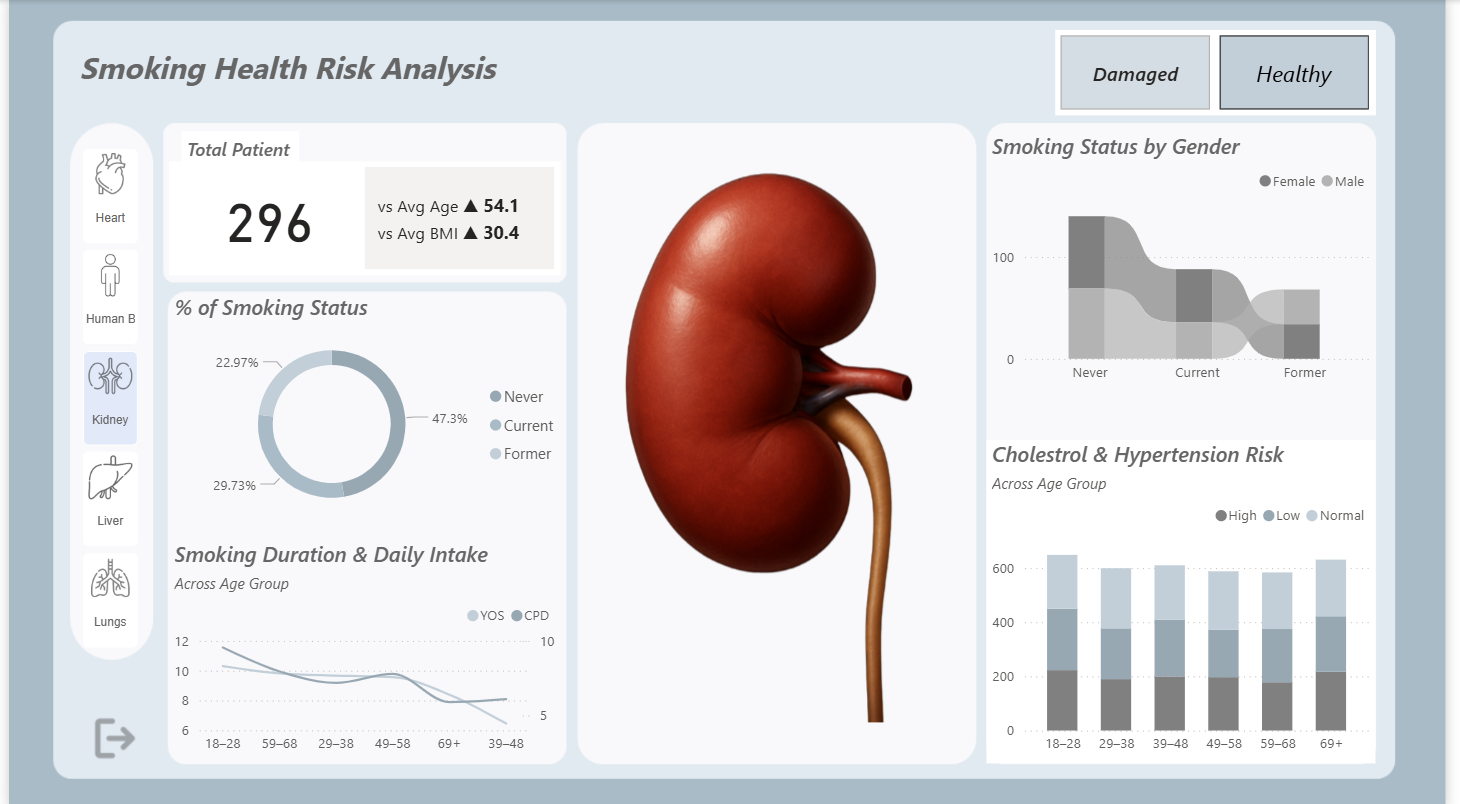

The page's visual inventory and layout, read from the dashboard file:
{"tool":"powerbi","page":{"name":"Page 1","canvas":[1280,720],"ordinal":0},"visuals":[{"type":"cardVisual","fields":{"Data":["CountNonNull(health_dataset.Patient_ID)"]},"box":[142.4,143.6,348.7,101.3],"z":0},{"type":"textbox","box":[153.2,117,105,37.4],"z":1000},{"type":"advancedSlicerVisual","fields":{"Values":["condition.Organ_Condition"]},"box":[931.4,26.5,285.9,76],"z":2000},{"type":"ChicletSlicer1448559807354","fields":{"Category":["Organs.Organ"],"Image":["Organs.Icon_URL"]},"box":[57.9,124.3,72.4,469.3],"z":3000},{"type":"simpleImageEBC4593F96F1425FB3D84C5BF02B5075","fields":{"imageURL":["Image Dataset.Image URL"]},"box":[520,102.5,330.6,577.9],"z":4000},{"type":"donutChart","title":"% of Smoking Status","fields":{"Category":["health_dataset.Smoking_Status"],"Y":["CountNonNull(health_dataset.Smoking_Status)"]},"box":[142.4,260.6,357.1,209.9],"z":5000},{"type":"lineChart","title":"Smoking Duration & Daily Intake","fields":{"Category":["health_dataset.Age Group"],"Y":["Avg(health_dataset.Years_of_Smoking)"],"Y2":["Avg(health_dataset.Cigarettes_Per_Day)"]},"box":[142.4,481.4,348.7,199.1],"z":6000},{"type":"ribbonChart","title":"Smoking Status by Gender","fields":{"Category":["health_dataset.Smoking_Status"],"Y":["CountNonNull(health_dataset.Patient_ID)"],"Series":["health_dataset.Gender"]},"box":[871.1,117,346.2,232.8],"z":7000},{"type":"columnChart","title":"Cholestrol & Hypertension Risk","fields":{"Category":["health_dataset.Age Group"],"Y":["Avg(health_dataset.Cholesterol_Level)"],"Series":["health_dataset.BP_Risk"]},"box":[871.1,392.1,346.2,288.3],"z":8000},{"type":"textbox","box":[57.9,36.2,382.4,53.1],"z":9000}]}

Visuals, with their boxes in screenshot pixels (x1, y1, x2, y2), scaled from the page's 1280x720 canvas onto the 1460x804 screenshot:
cardVisual - CountNonNull(health_dataset.Patient_ID): 162,160,560,273
textbox: 175,131,295,172
advancedSlicerVisual - condition.Organ_Condition: 1062,30,1388,114
ChicletSlicer1448559807354 - Organs.Organ x Organs.Icon_URL: 66,139,149,663
simpleImageEBC4593F96F1425FB3D84C5BF02B5075 - Image Dataset.Image URL: 593,114,970,760
"% of Smoking Status" donutChart: 162,291,570,525
"Smoking Duration & Daily Intake" lineChart: 162,538,560,760
"Smoking Status by Gender" ribbonChart: 994,131,1388,391
"Cholestrol & Hypertension Risk" columnChart: 994,438,1388,760
textbox: 66,40,502,100
